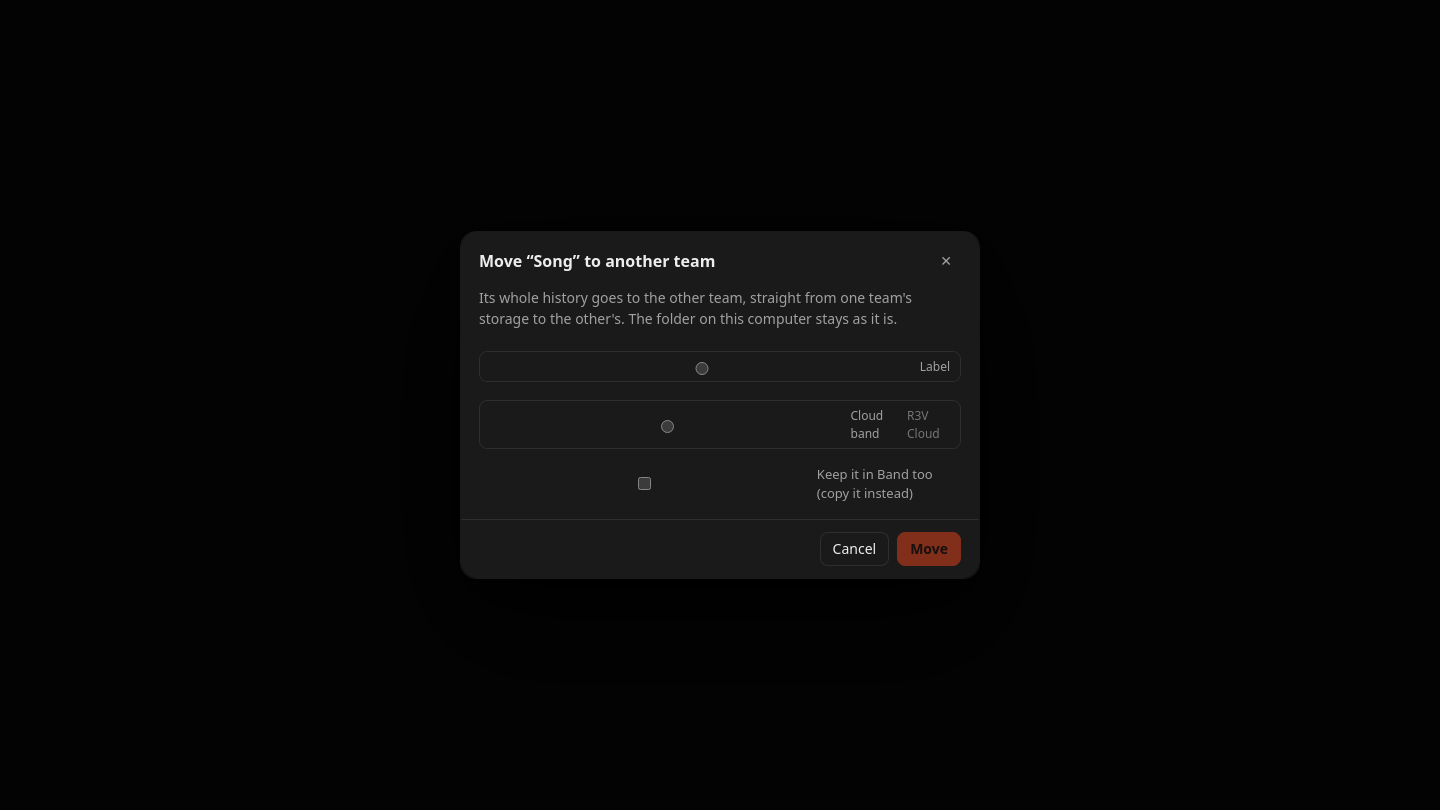
Test case: Moving a project to another team › says what went wrong, and stays
This screenshot has width=1440, height=810.
Step 1. Click the radio button labelled "Label" → (702, 368), box [495,362,909,374]
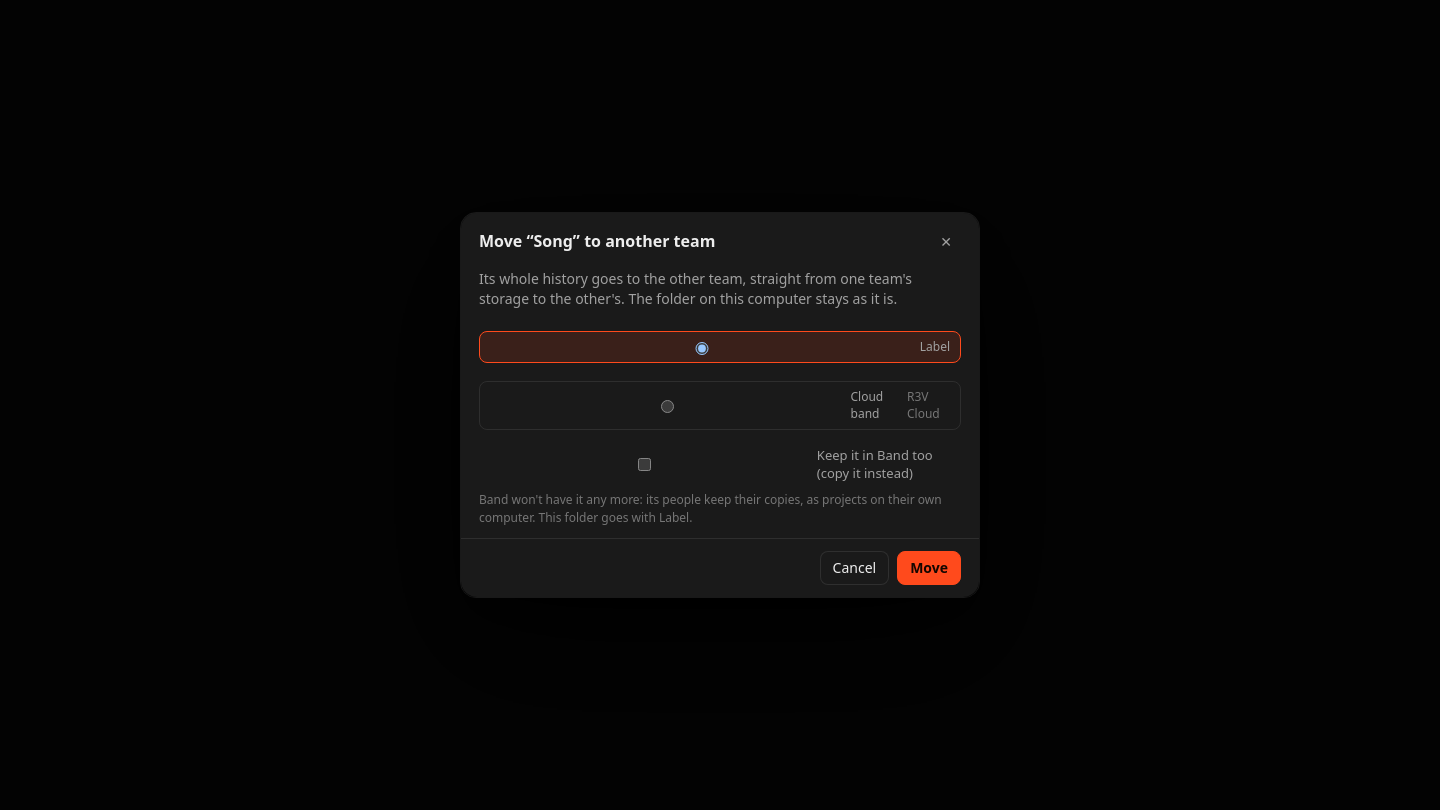
Step 2. Click the button "Move" → (929, 568), box [897,551,961,585]
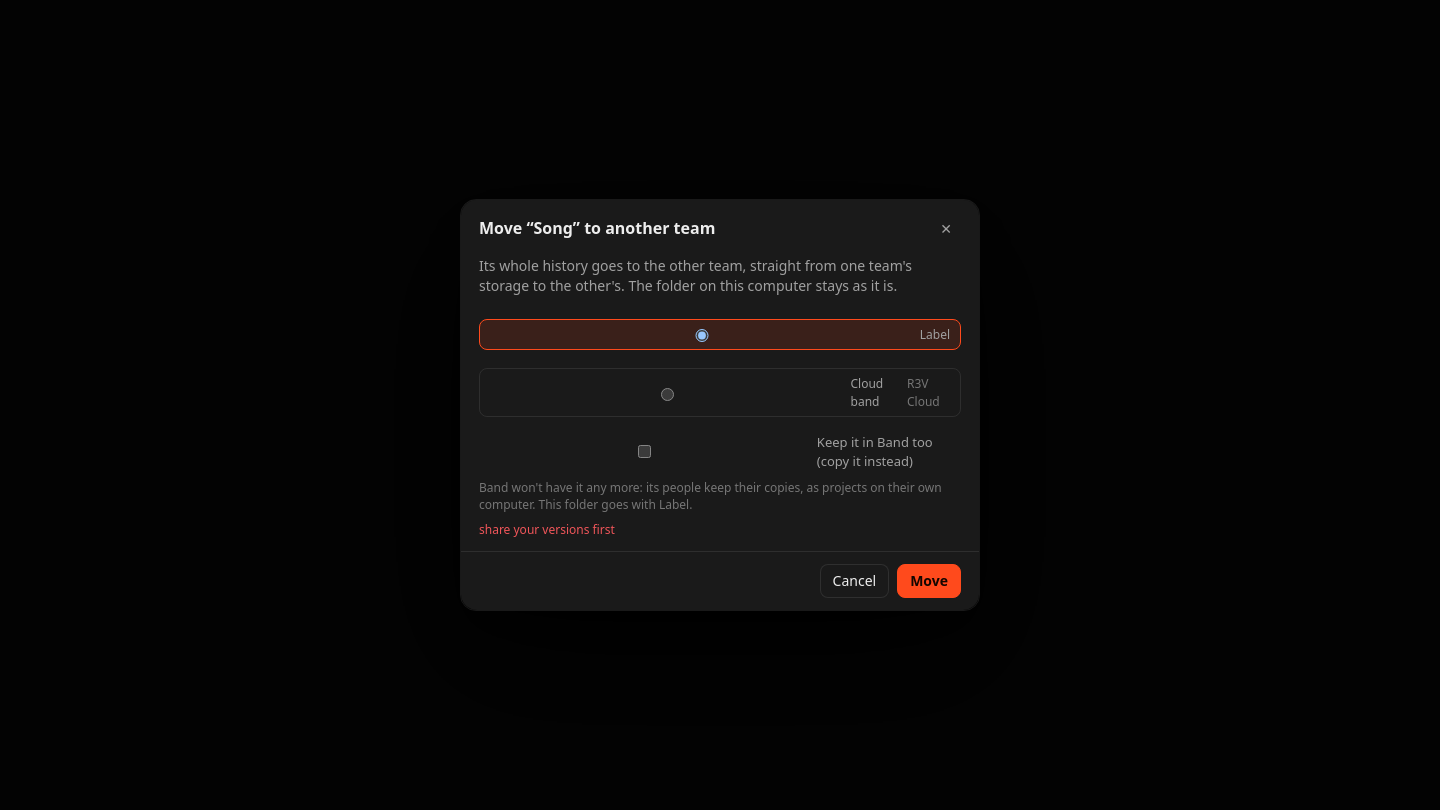
Now the message reads "share your versions first", box [479,521,615,538]
